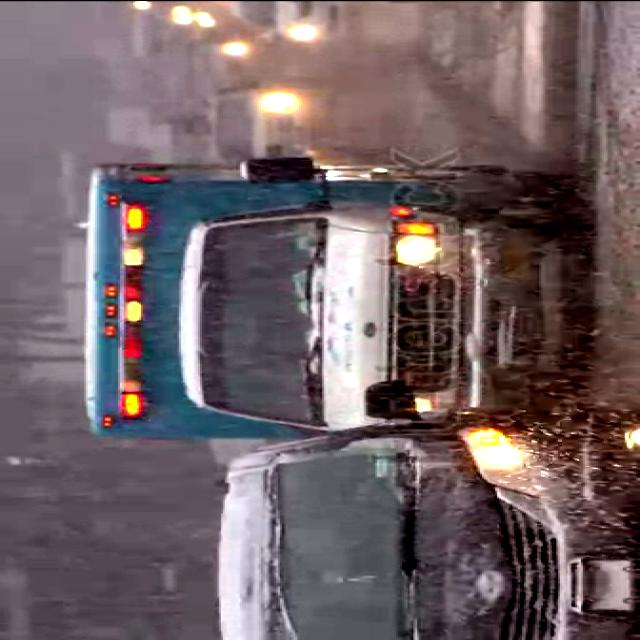ambulance: (84, 156, 588, 444)
